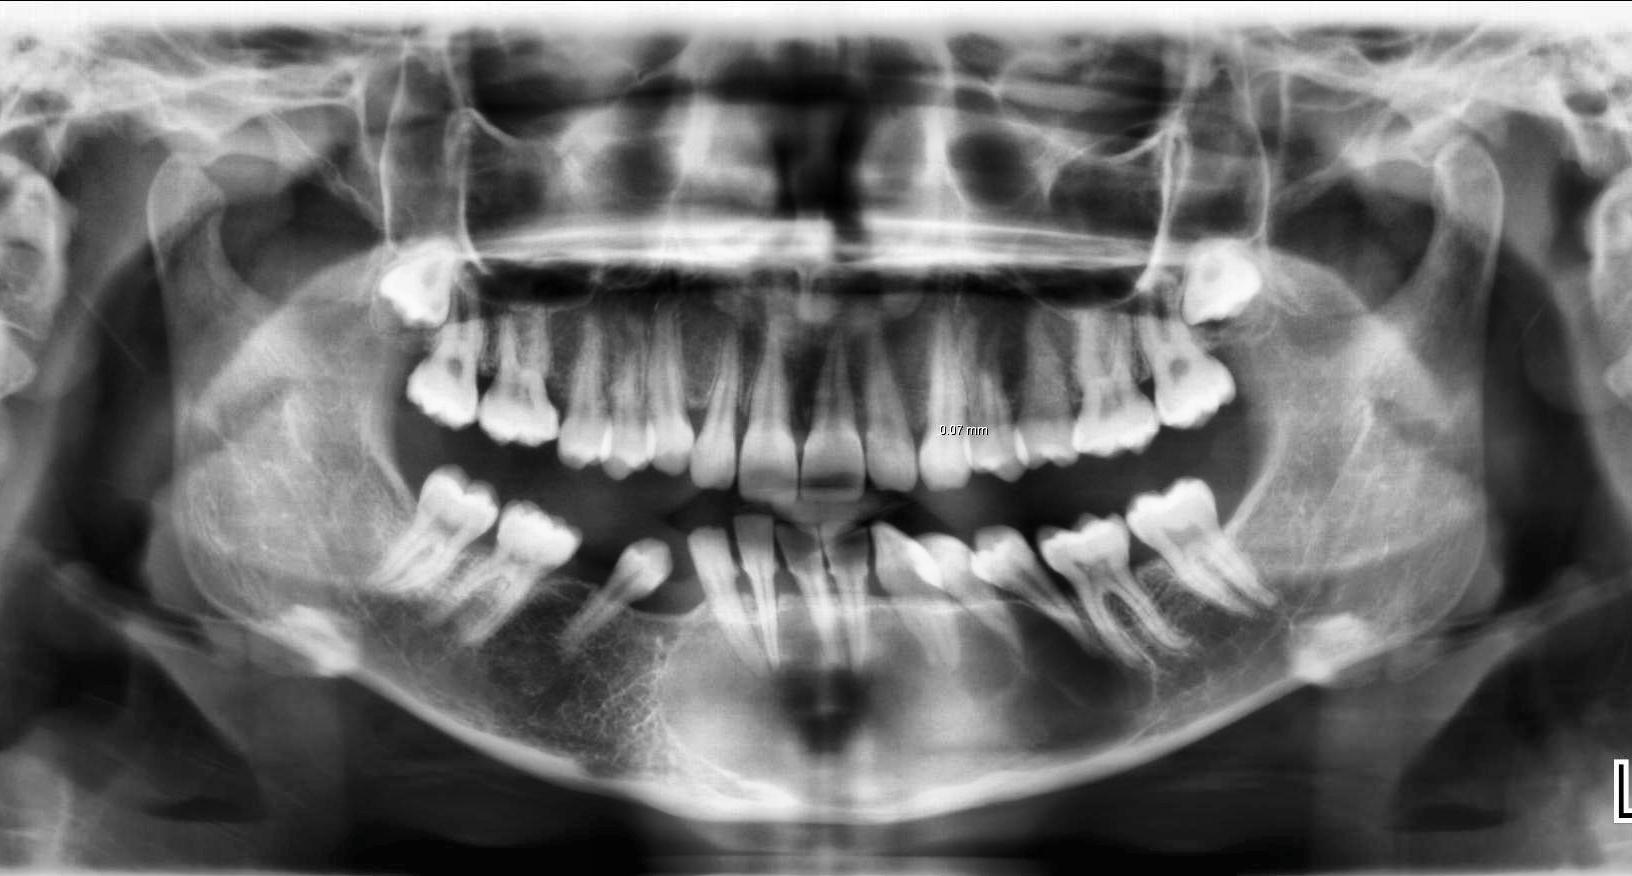keratokist: (658, 603, 1156, 812)
